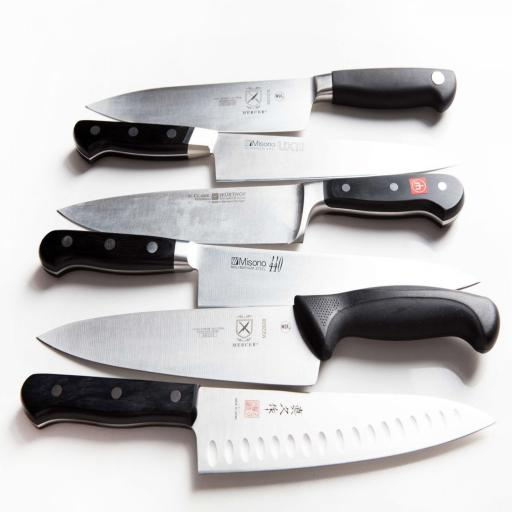knife: (13, 371, 497, 484)
